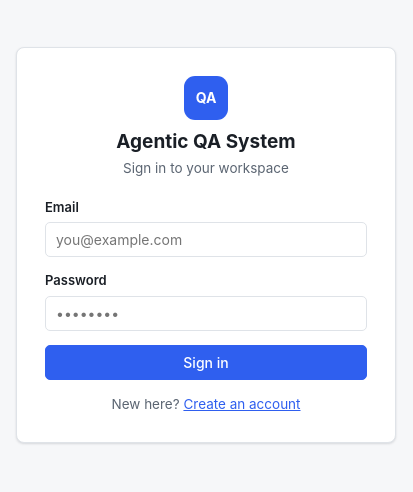
Test: LoginPage › shows a meaningful error when the credentials are rejected
Type "qa@example.com" into the field labelled "Email" at coordinates (206, 240), box [45,222,367,257]
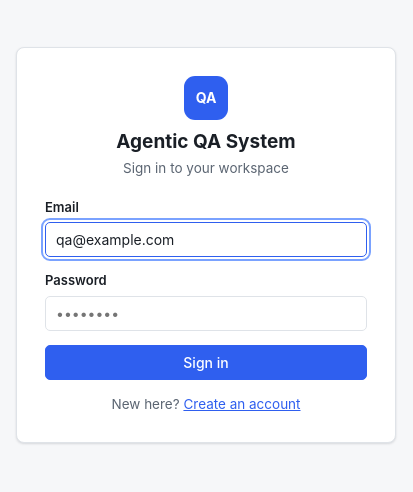
Type "wrong" into the password field labelled "Password" at coordinates (206, 313), box [45,296,367,331]
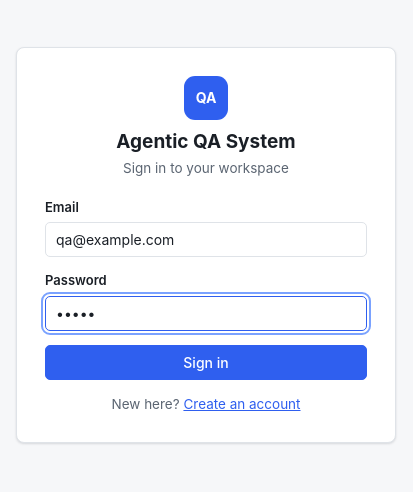
Click the button "Sign in" at coordinates (206, 362), box [45,345,367,380]
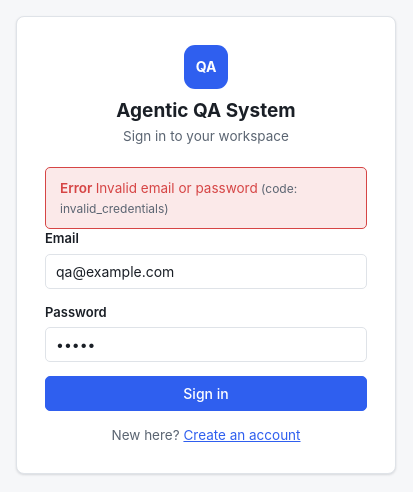
expect the message shows "Invalid email or password": met, box [96,180,258,196]
